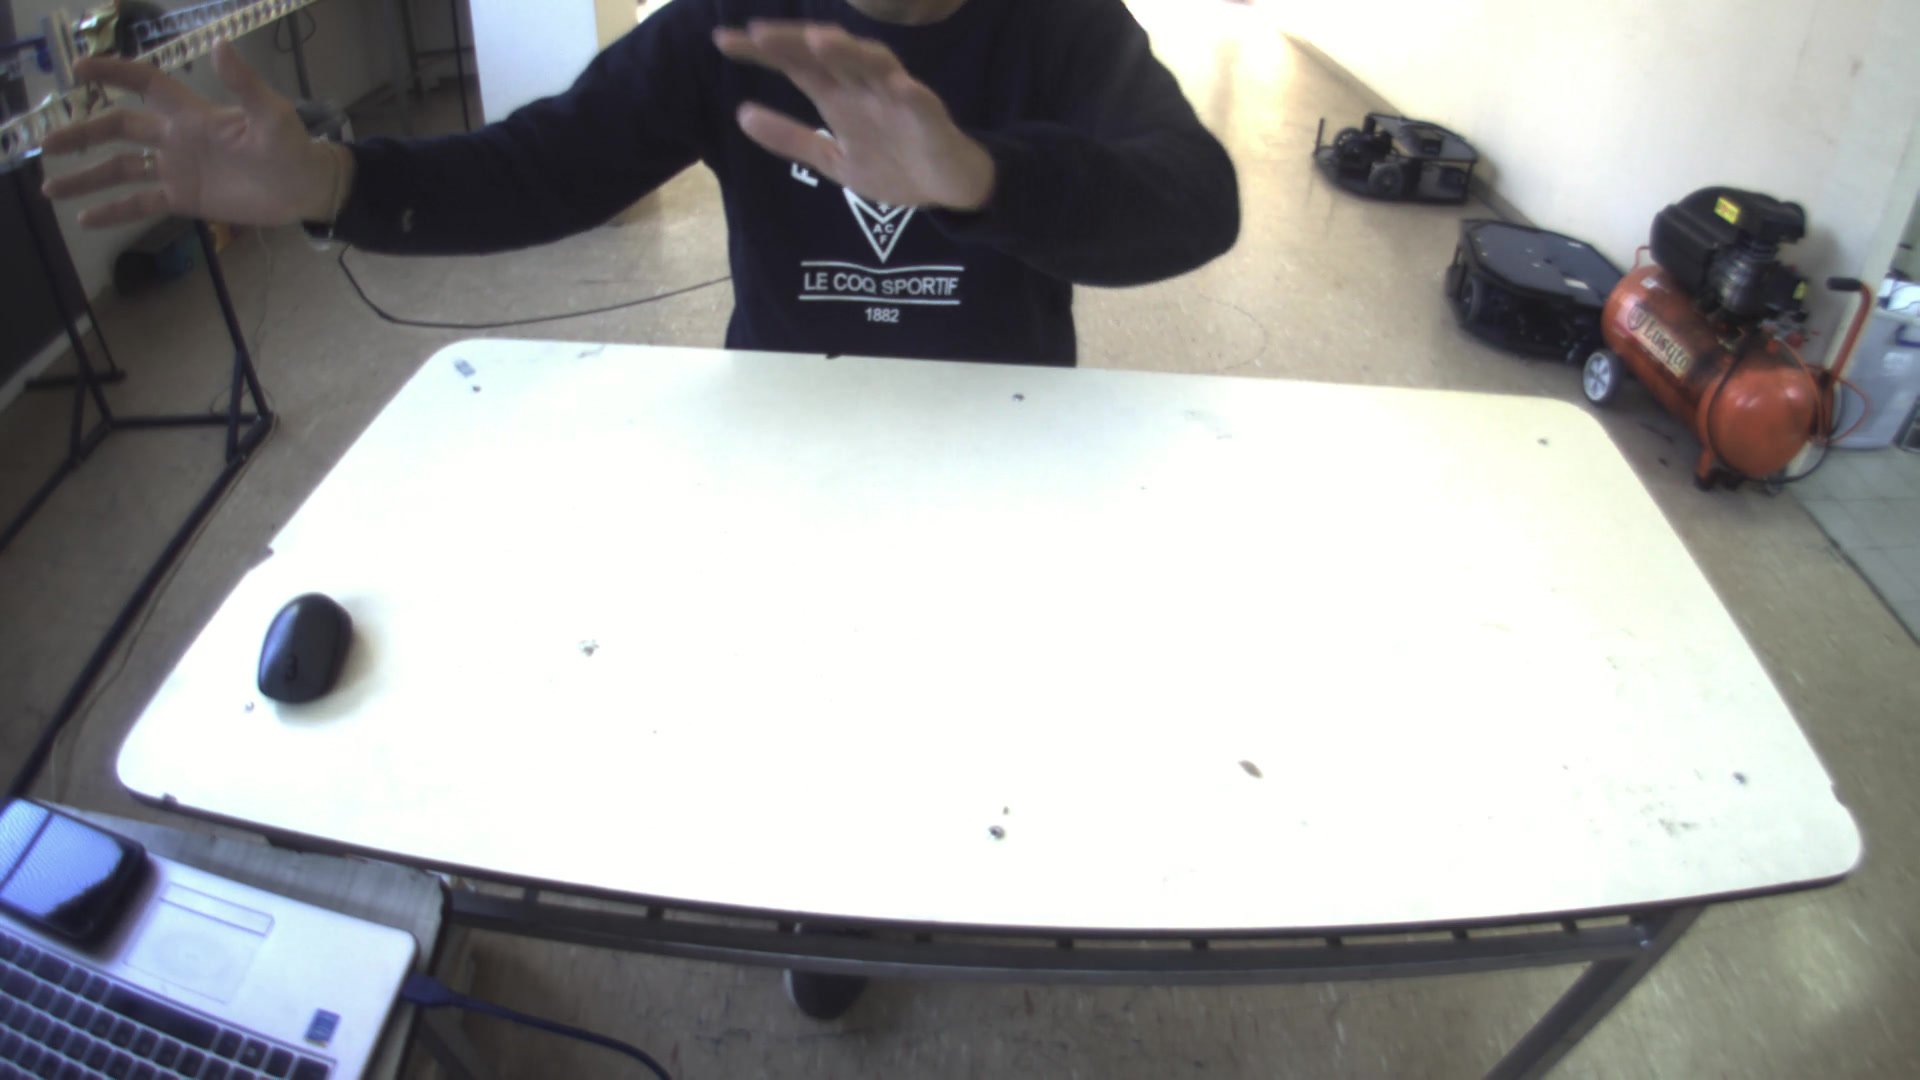hand: (12, 36, 349, 229), (713, 16, 1000, 210)
